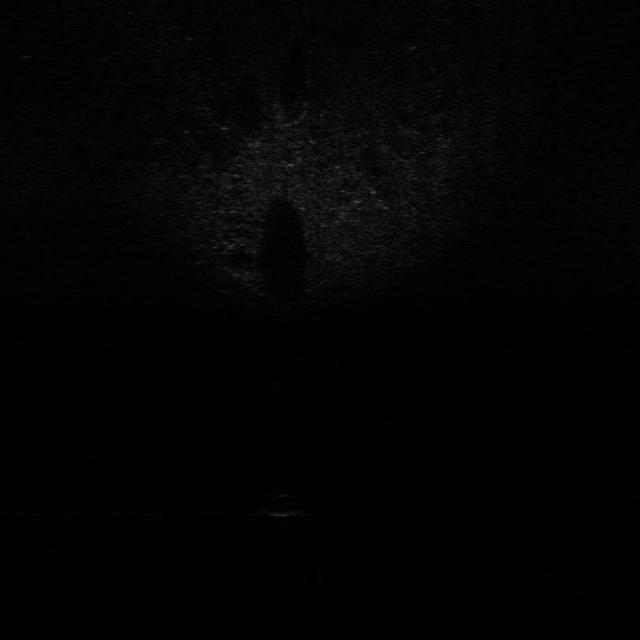ball: (262, 492, 307, 518)
